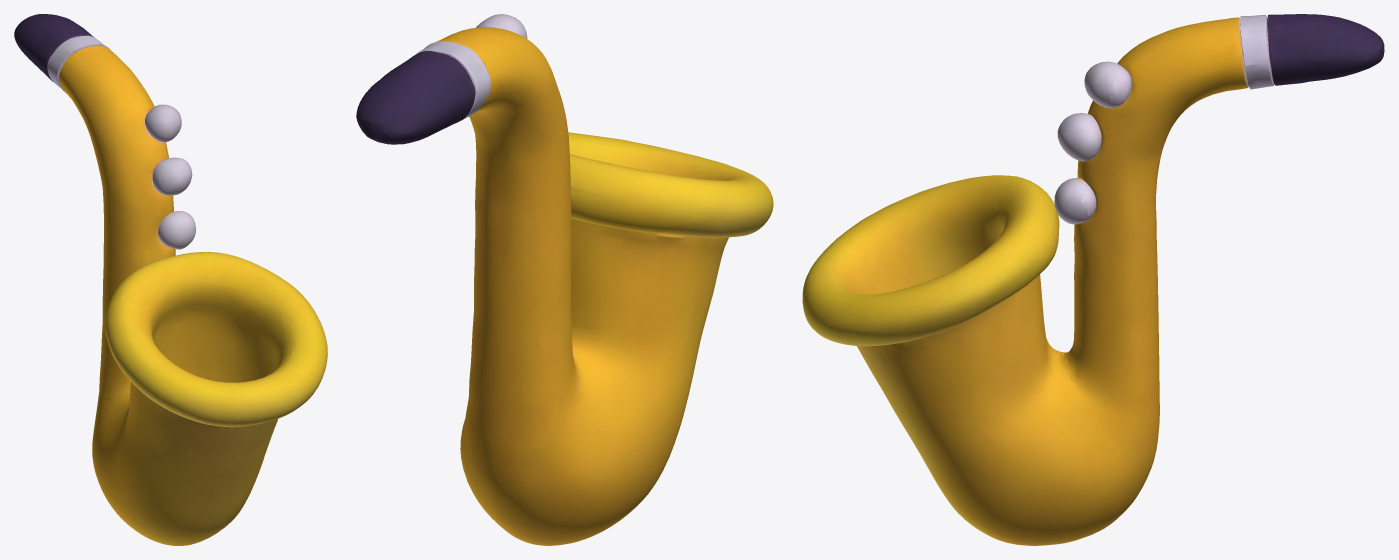
File: saxophone.glb
3 renders of one model, left to right at view 1: azimuth 30°, elevation 25°; view 2: azimuth 150°, elevation 25°; view 3: azimuth 270°, elevation 25°, orthographic. The views are drawn at different scales.
Visible parts, largest first — view 1: model; view 2: model; view 3: model.
Boxes of the visible parts, x1,y1,x2,y2 form: model: [14, 14, 327, 545]; model: [356, 14, 773, 545]; model: [802, 14, 1384, 545].
Bounding box in the file's own units: 0.4629 × 0.9916 × 1.
1 material, 1 textured.
